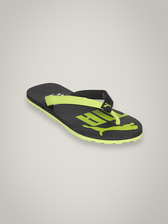shoes: (18, 82, 147, 144)
